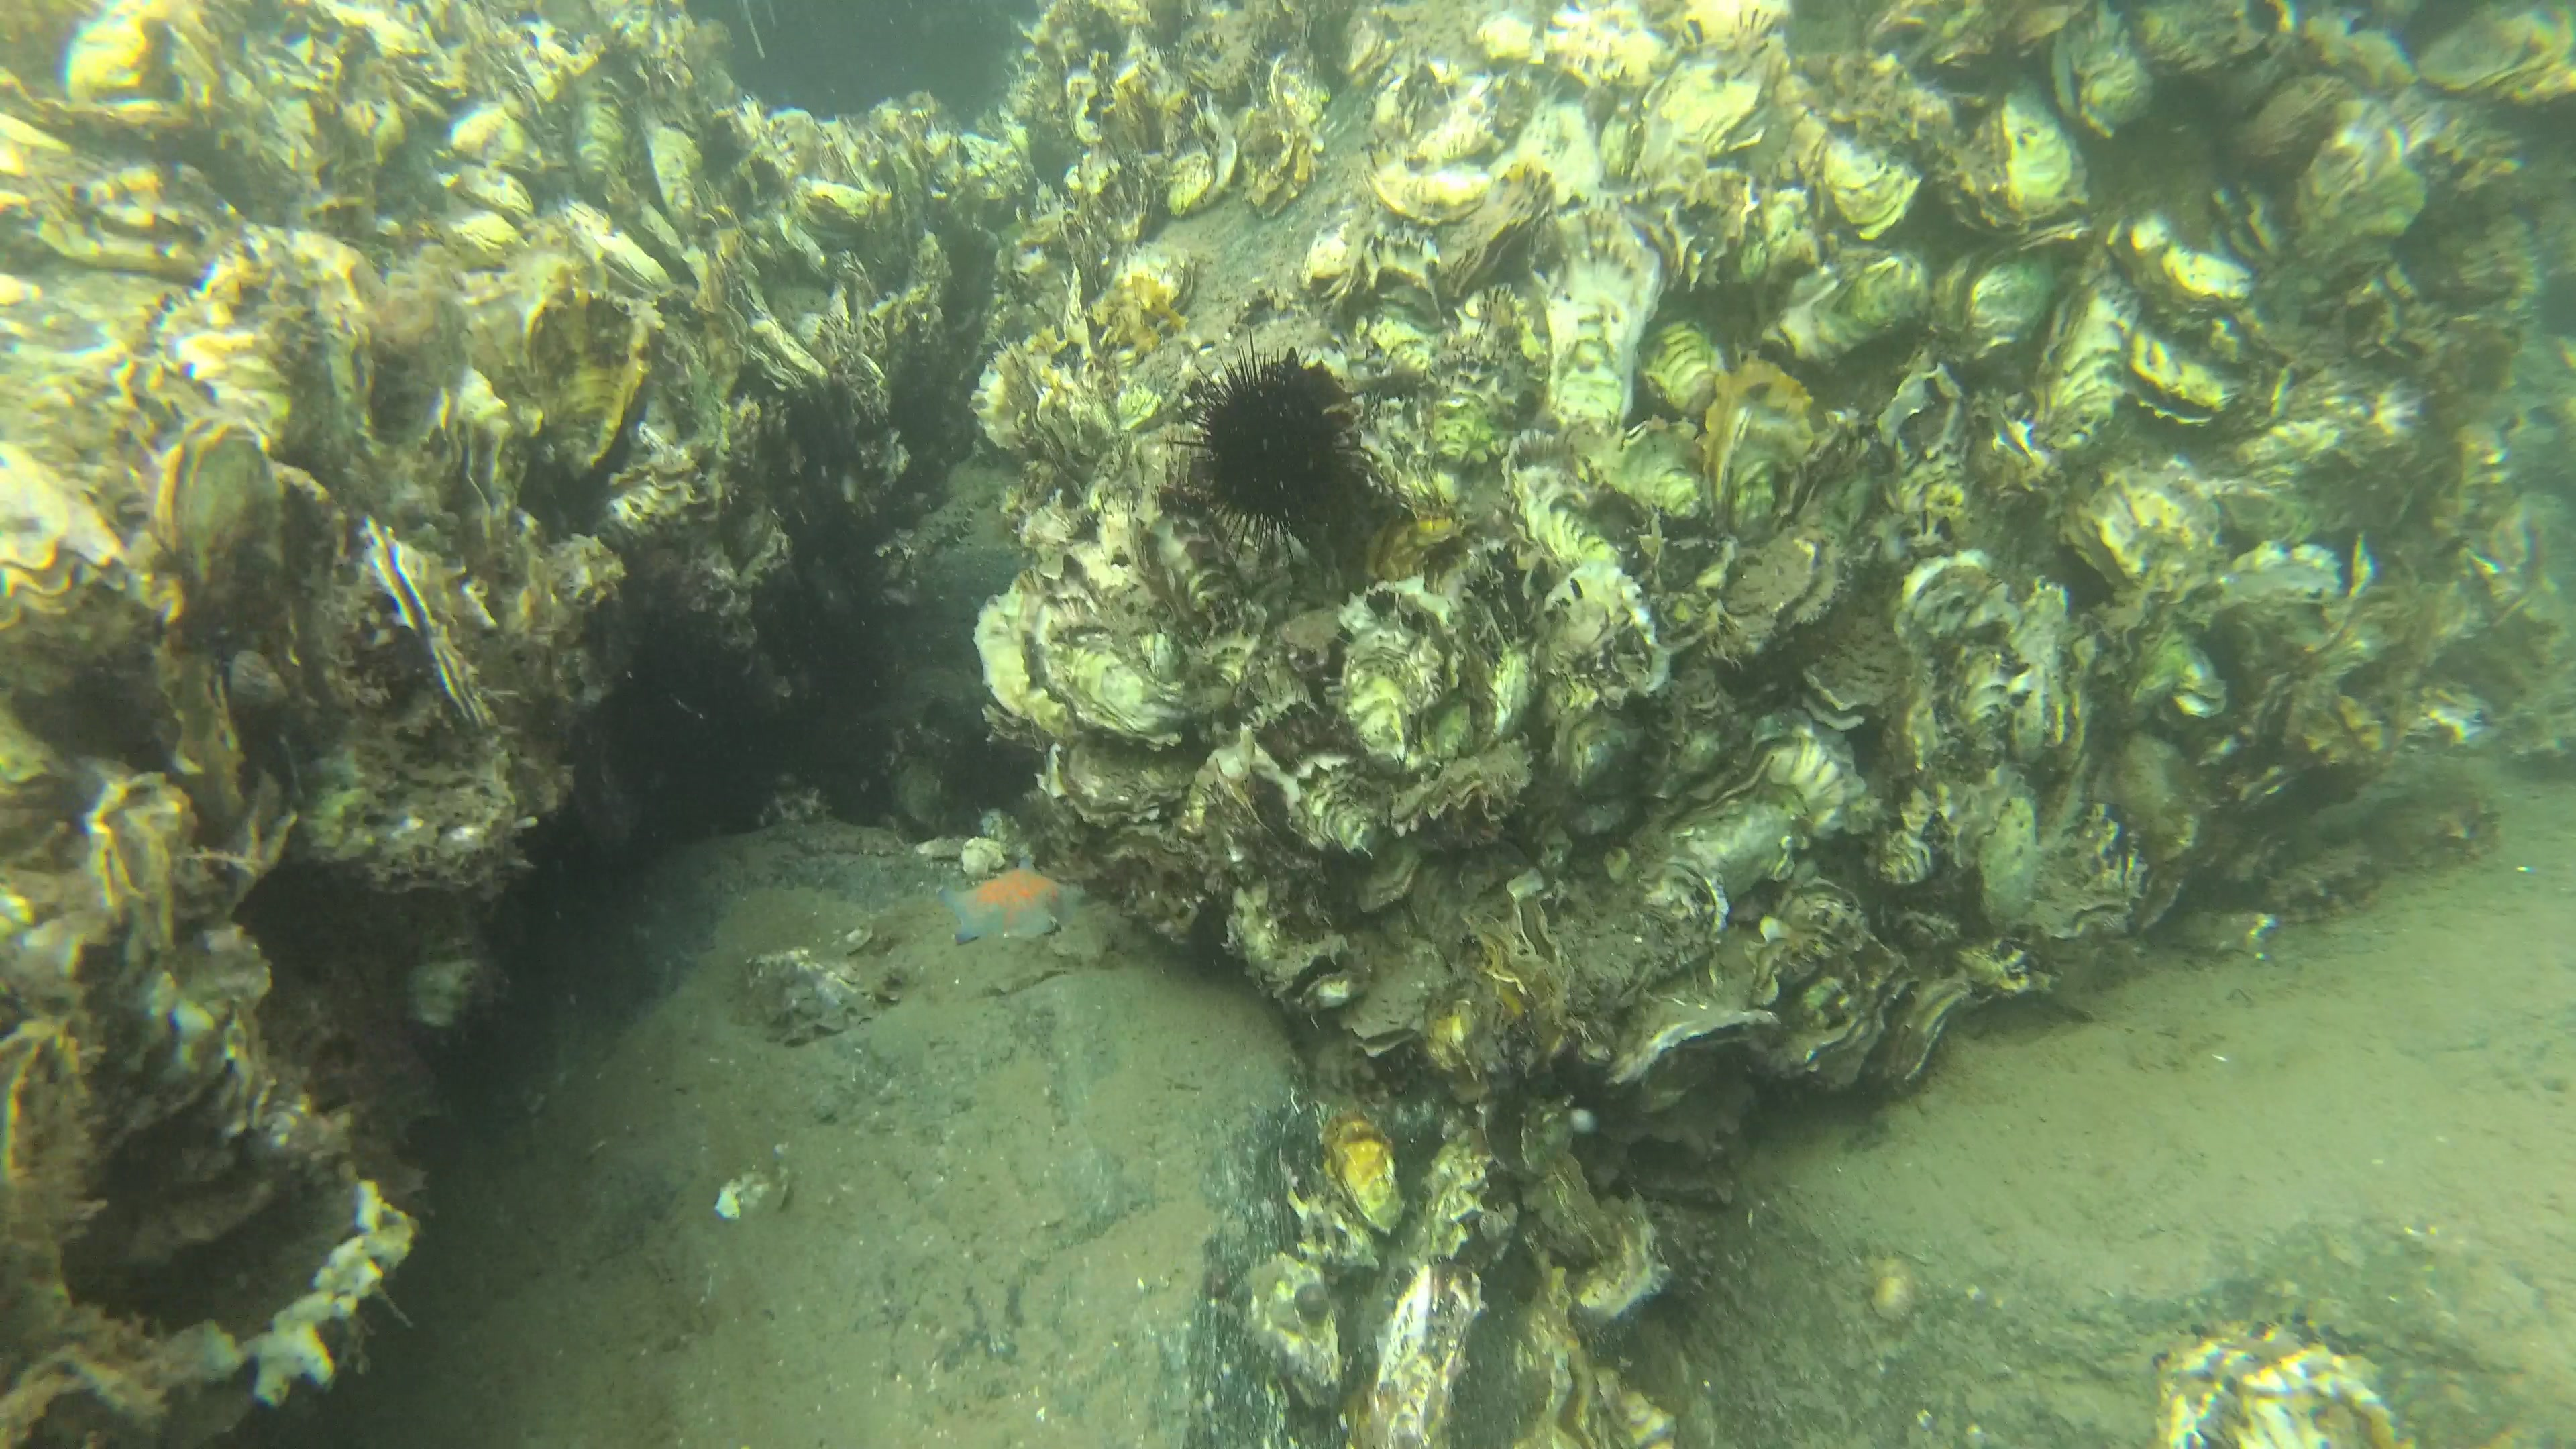echinus: (1166, 327, 1362, 573)
starfish: (936, 853, 1093, 945)
